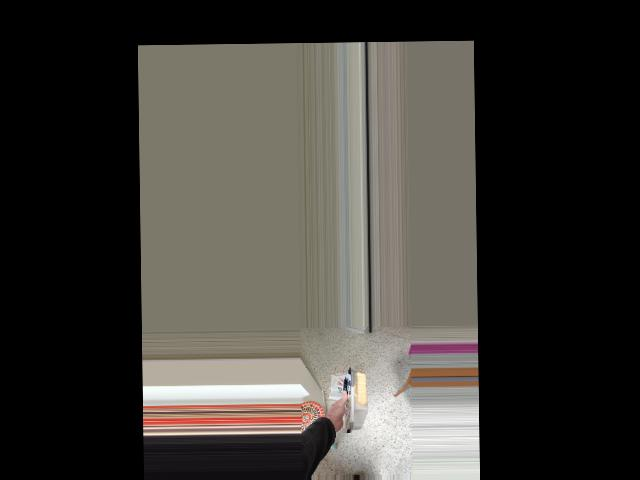cheese: (306, 368, 373, 437)
